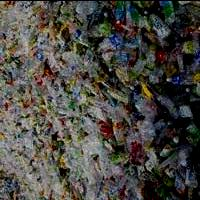Plastic: (147, 11, 174, 38), (176, 88, 194, 122), (165, 66, 199, 83), (96, 31, 128, 49), (185, 161, 199, 189), (186, 119, 199, 147), (190, 24, 199, 57)
